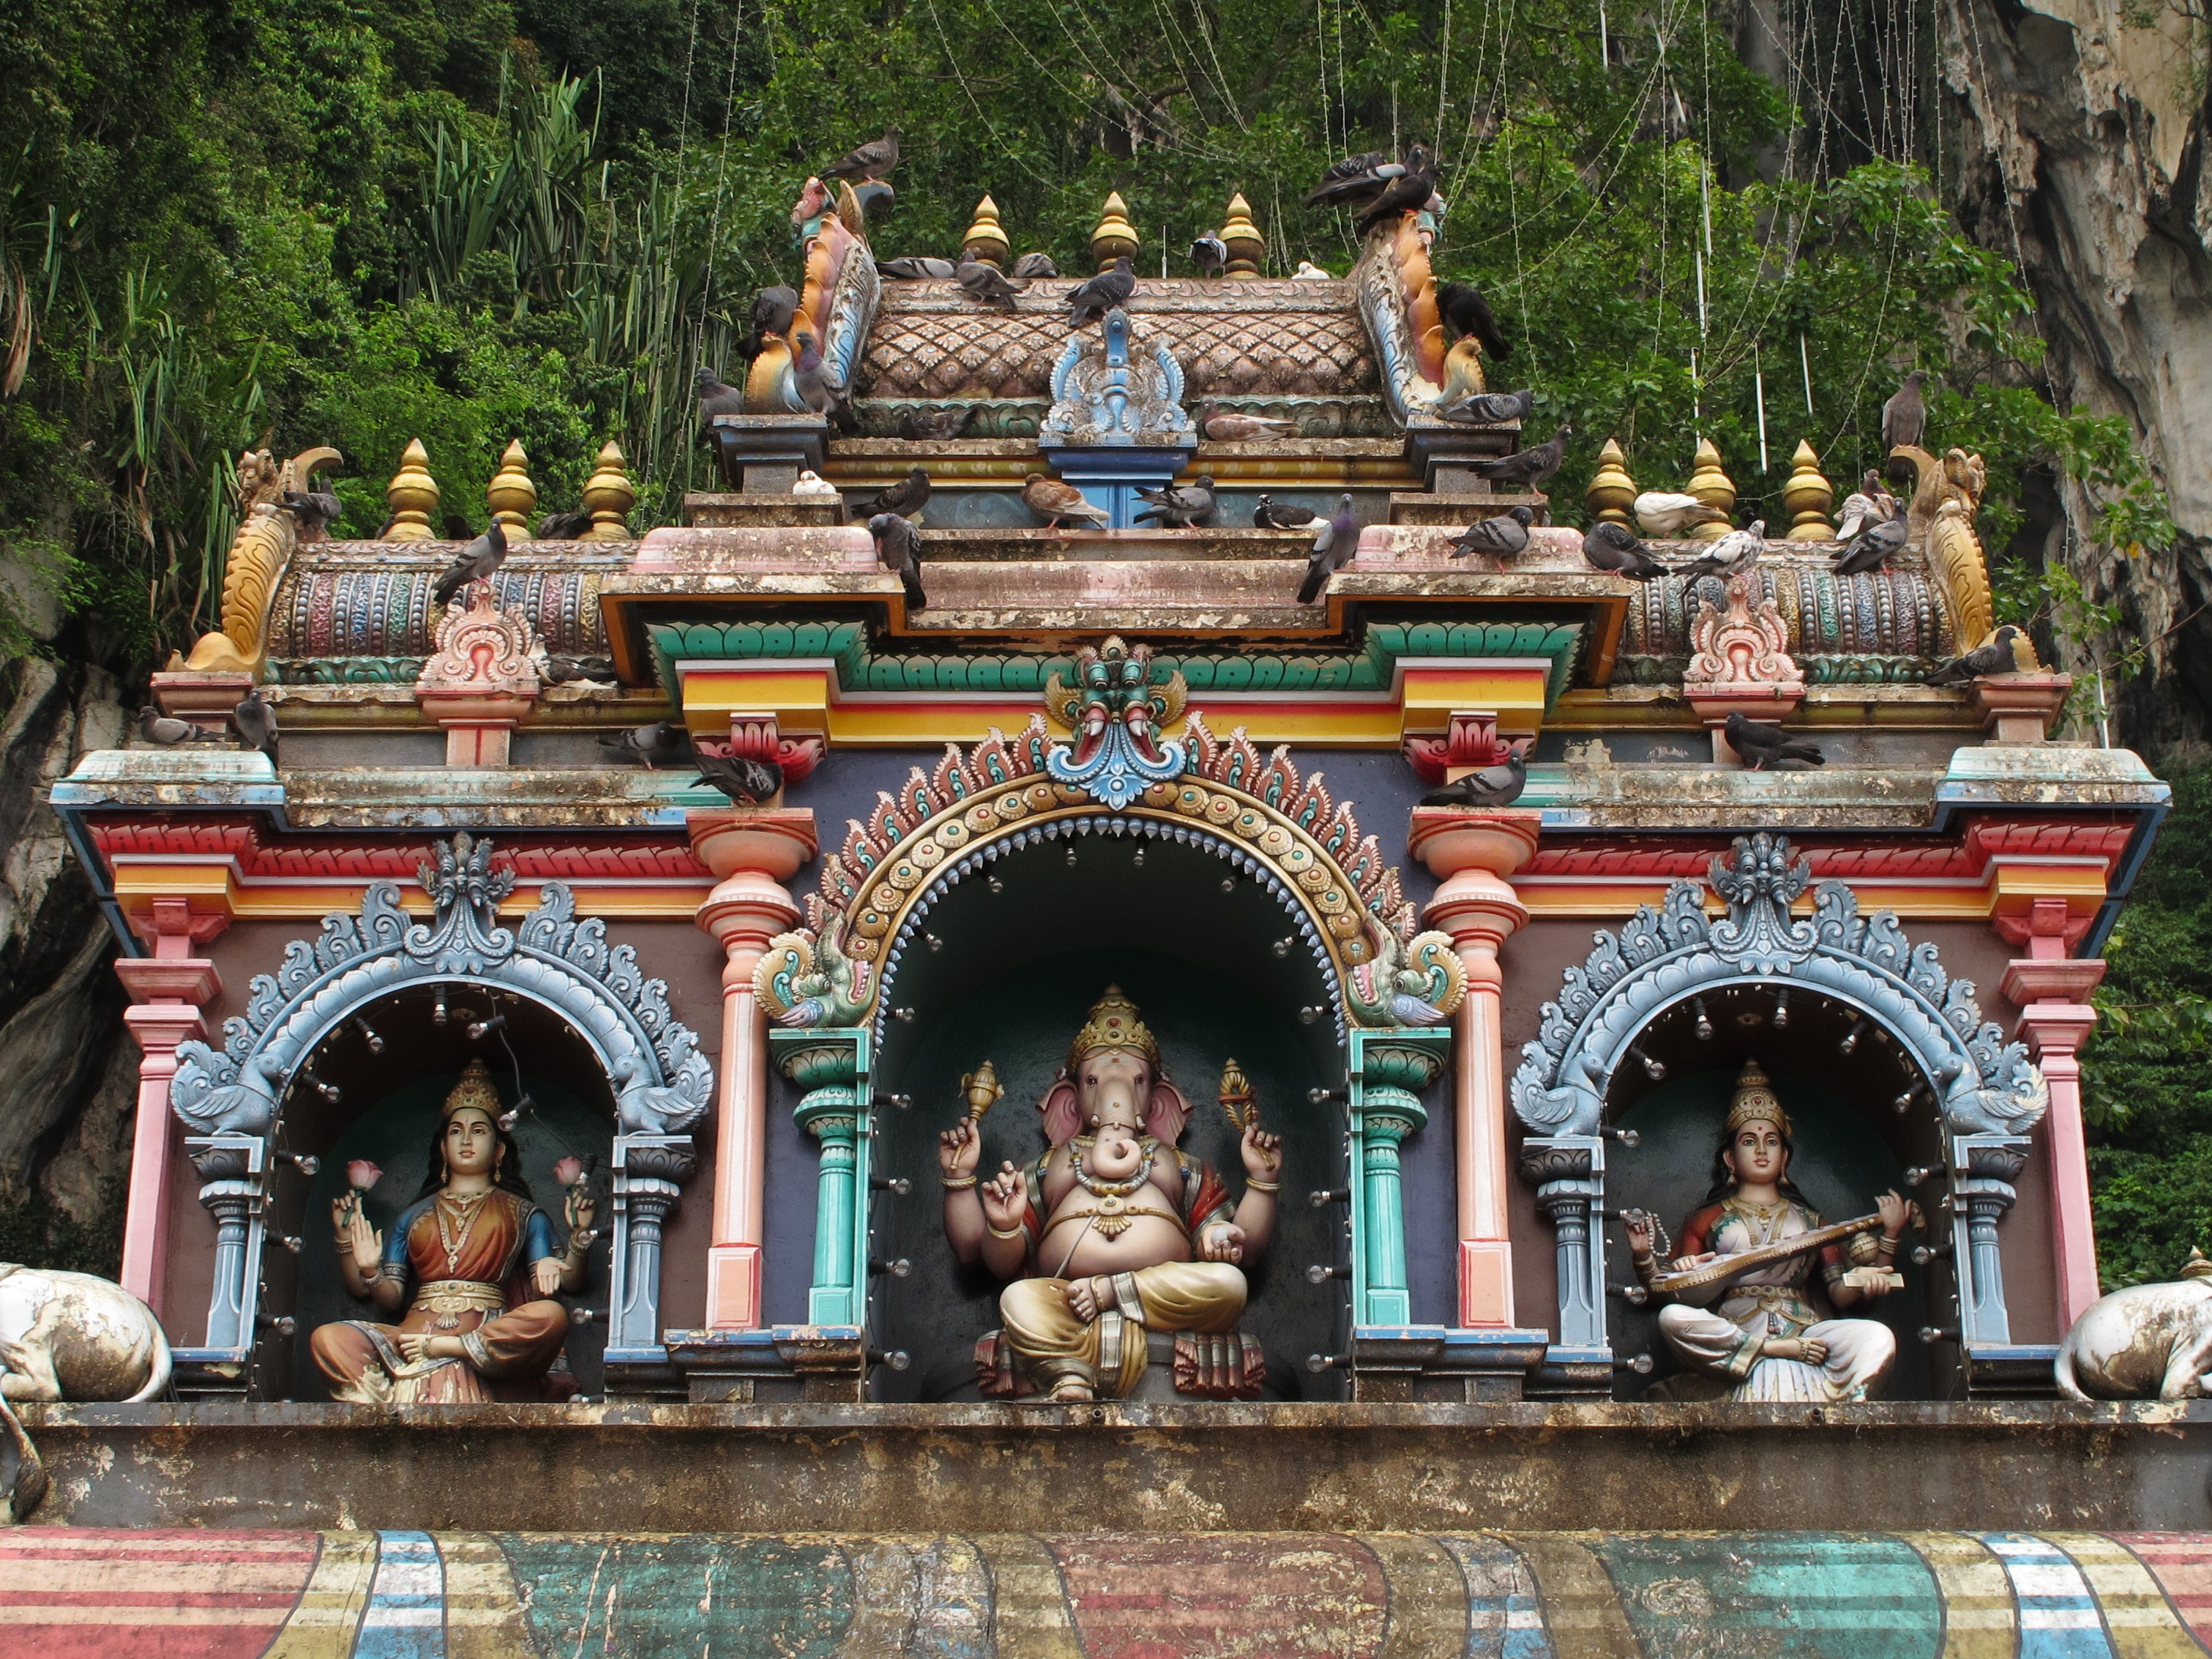Hindu Temple: (54, 167, 2170, 1450)
